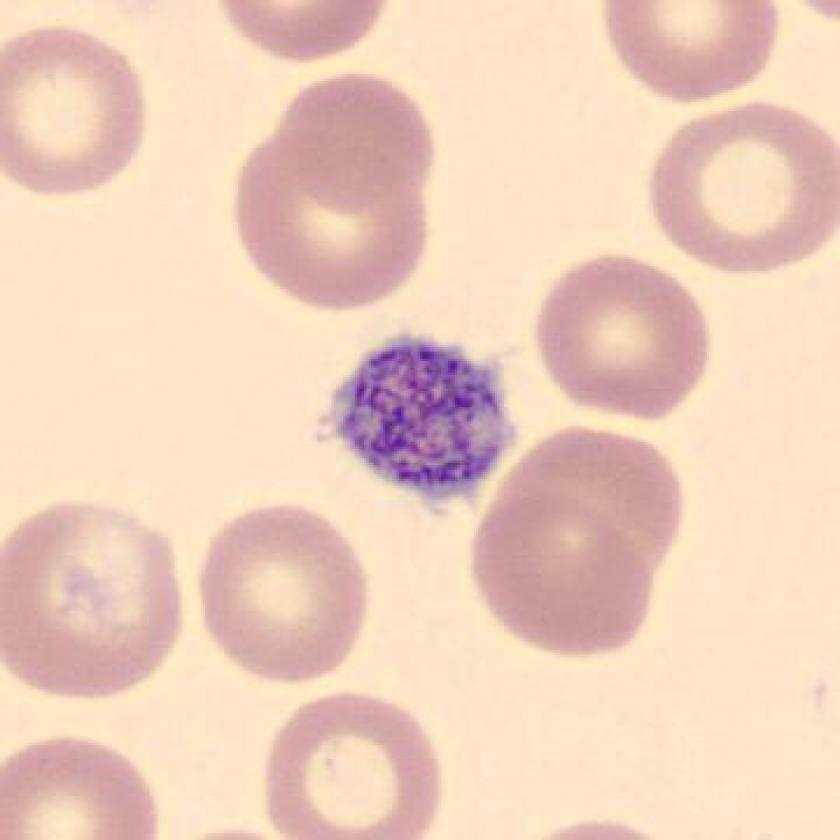platelets: (316, 320, 528, 522)
